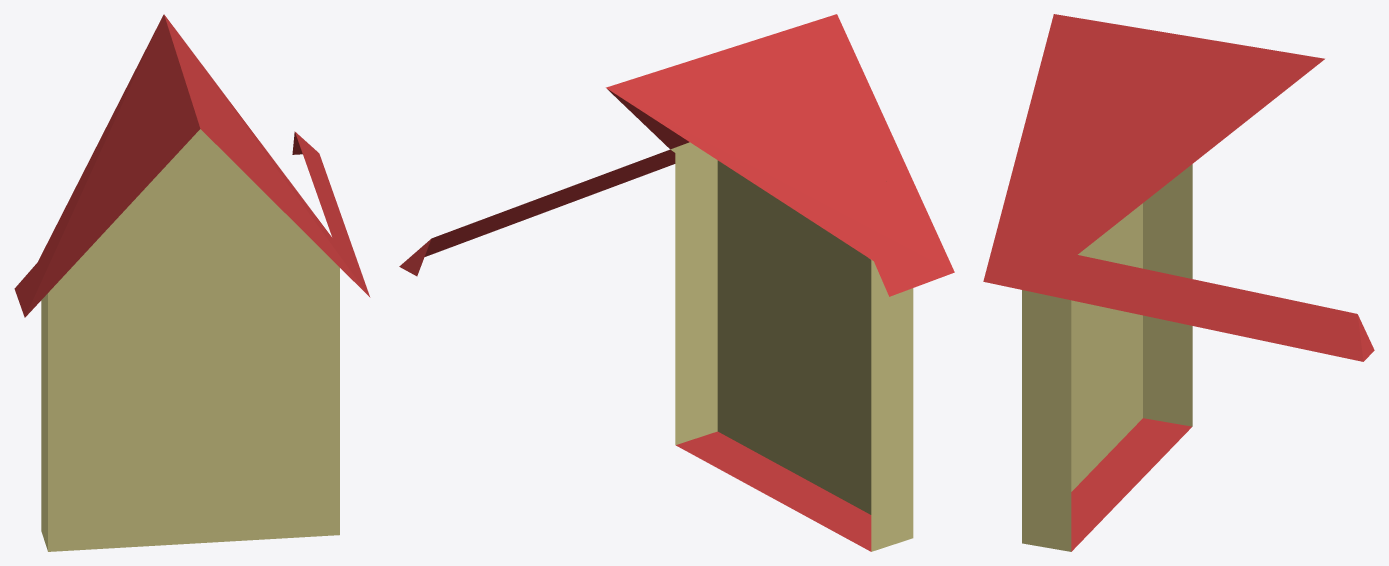
The picture shows the model from 3 angles, left to right: view 1: azimuth 30°, elevation 25°; view 2: azimuth 150°, elevation 25°; view 3: azimuth 270°, elevation 25°; orthographic projection. The views are drawn at different scales.
Size of the model in its own units: 12.83 by 9.92 by 13.01.
